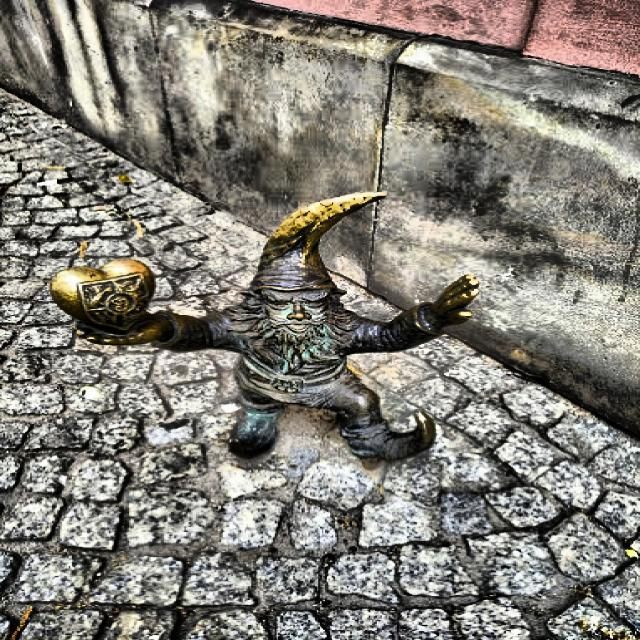WrocLovek: (50, 191, 478, 464)
